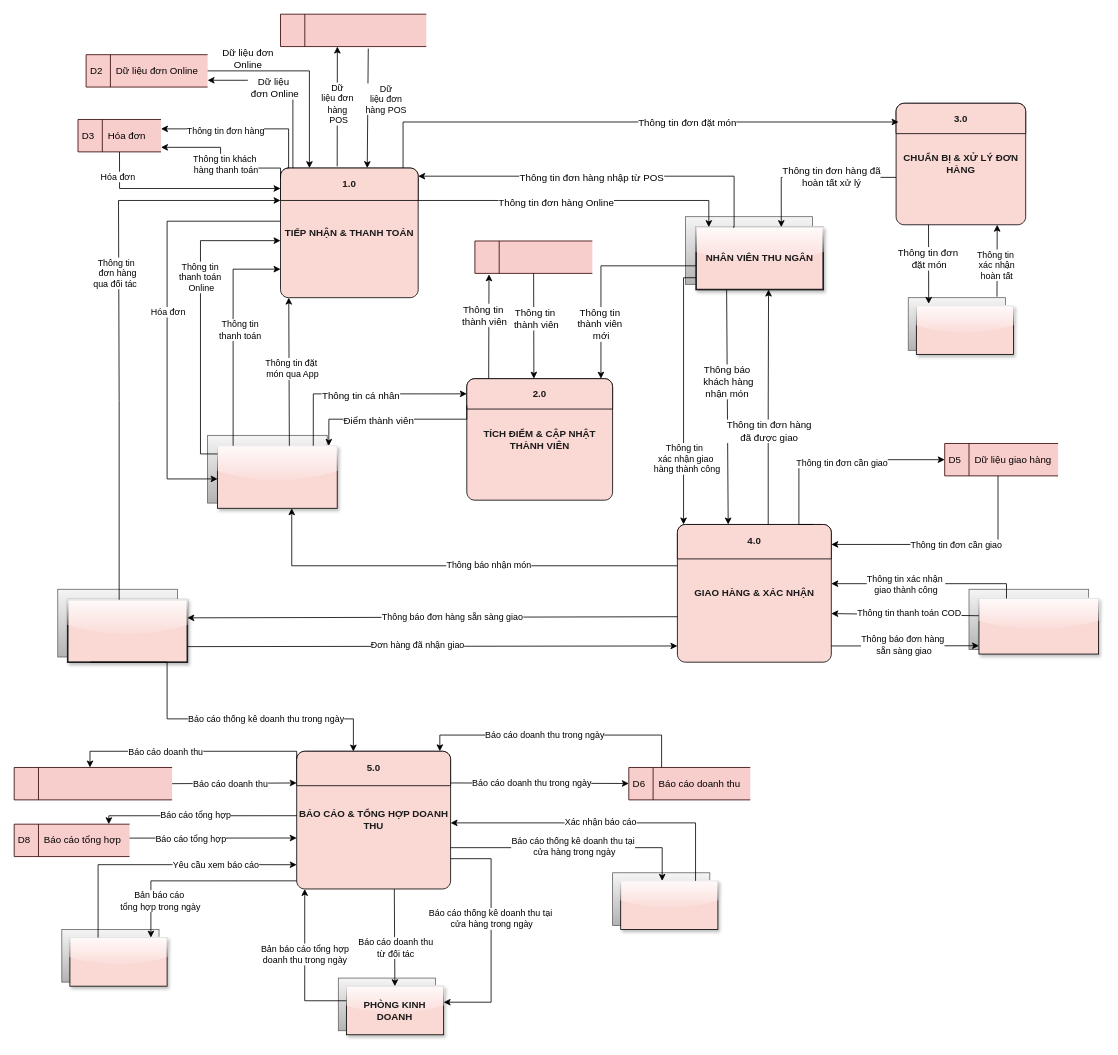
Some shapes in this 1118 by 1055 pixel diagram are drawn without their labels. The shapes that lost their labels are listed below. From the top down, each one's centre as x and y in pixels, then its label:
pixel 353 30: D1 Dữ liệu đơn tại cửa hàng
pixel 533 256: D4 Dữ liệu thành viên
pixel 965 331: NHÂN VIÊN PHA CHẾ
pixel 278 478: KHÁCH HÀNG
pixel 128 631: ĐỐI TÁC GIAO HÀNG
pixel 1039 627: NHÂN VIÊN GIAO HÀNG NỘI BỘ
pixel 92 783: D7 Báo cáo doanh thu từ đối tác
pixel 670 906: QUẢN LÝ CỬA HÀNG
pixel 119 963: BAN GIÁM ĐỐC
